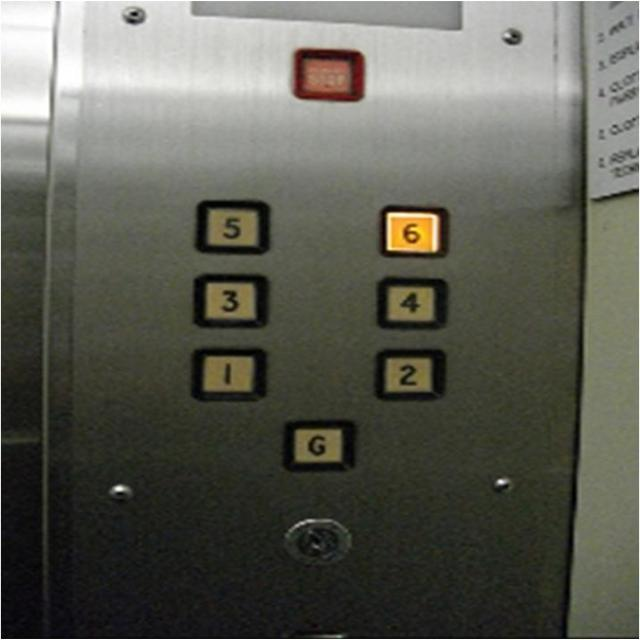1: (187, 344, 268, 400)
2: (371, 346, 448, 401)
3: (191, 272, 269, 328)
4: (373, 274, 448, 329)
5: (193, 198, 271, 253)
6: (378, 202, 452, 258)
G: (280, 418, 356, 470)
keyhole: (280, 516, 352, 563)
text_stop: (291, 46, 364, 102)
